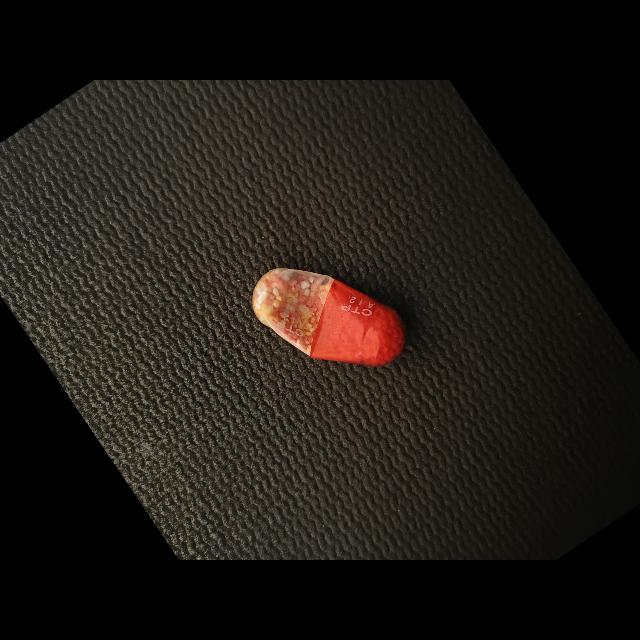Defective Capsule: (252, 268, 406, 366)
